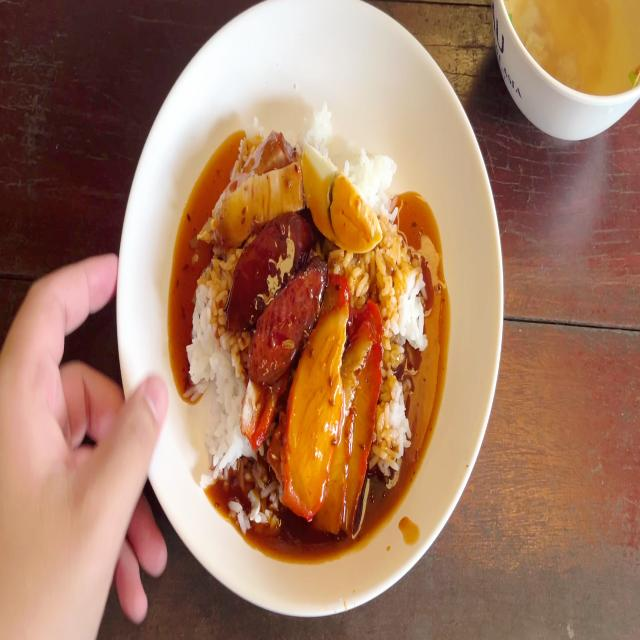boiled_egg: (301, 142, 381, 255)
chainese_sausage: (239, 218, 320, 370)
crispy_pork: (215, 130, 299, 236)
red_pork: (297, 292, 375, 531)
red_pork_and_crispy_pork: (191, 112, 424, 515)
rice: (183, 254, 242, 484), (389, 232, 426, 499), (356, 150, 386, 198)
